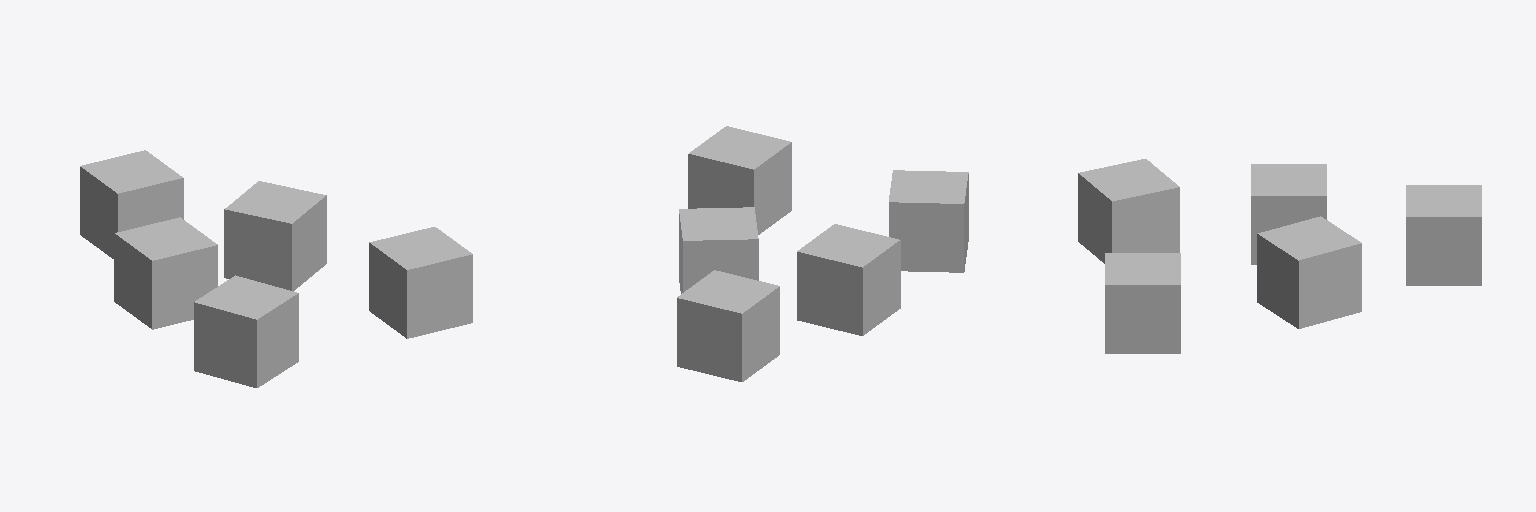
File: dadosA.obj
The picture shows the model from 3 angles: view 1: azimuth 30°, elevation 25°; view 2: azimuth 150°, elevation 25°; view 3: azimuth 270°, elevation 25°; orthographic projection.
Visible parts, largest first — view 1: Cube.009, Cube.008, Cube.006, Cube.007, Cube.005; view 2: Cube.007, Cube.005, Cube.008, Cube.009, Cube.006; view 3: Cube.006, Cube.009, Cube.005, Cube.008, Cube.007.
Part boxes in pixels (x1,y1,x2,y2): Cube.009: (194, 275, 298, 387); Cube.008: (369, 227, 472, 338); Cube.006: (224, 181, 326, 291); Cube.007: (114, 217, 217, 329); Cube.005: (80, 150, 183, 258); Cube.007: (797, 224, 900, 335); Cube.005: (677, 270, 779, 381); Cube.008: (688, 126, 791, 234); Cube.009: (889, 170, 968, 272); Cube.006: (679, 207, 758, 293); Cube.006: (1257, 216, 1361, 328); Cube.009: (1078, 159, 1179, 263); Cube.005: (1406, 185, 1481, 285); Cube.008: (1105, 253, 1180, 353); Cube.007: (1251, 164, 1326, 264).
Size of the model in its own units: 10.15 by 2.58 by 13.72.